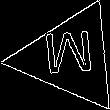M_S: (42, 30, 98, 85)
